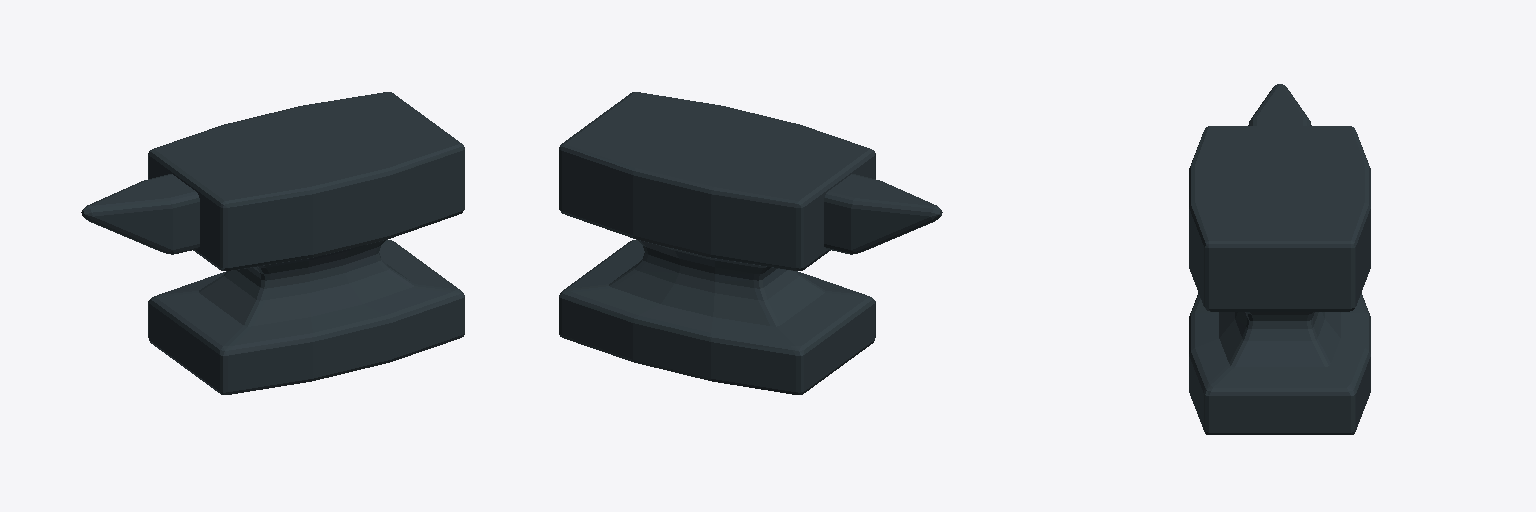
Rendered from anvil.obj.
3 views of the same model, side by side, from view 1: azimuth 30°, elevation 25°; view 2: azimuth 150°, elevation 25°; view 3: azimuth 270°, elevation 25° (orthographic).
Parts seen in each view (by area): view 1: anvil_Cube.8497; view 2: anvil_Cube.8497; view 3: anvil_Cube.8497.
Boxes of the visible parts, x1=… form: anvil_Cube.8497: x1=81, y1=92, x2=464, y2=394; anvil_Cube.8497: x1=559, y1=92, x2=942, y2=394; anvil_Cube.8497: x1=1189, y1=84, x2=1370, y2=434.
Bounding box in the file's own units: 1.53 × 0.8186 × 0.695.